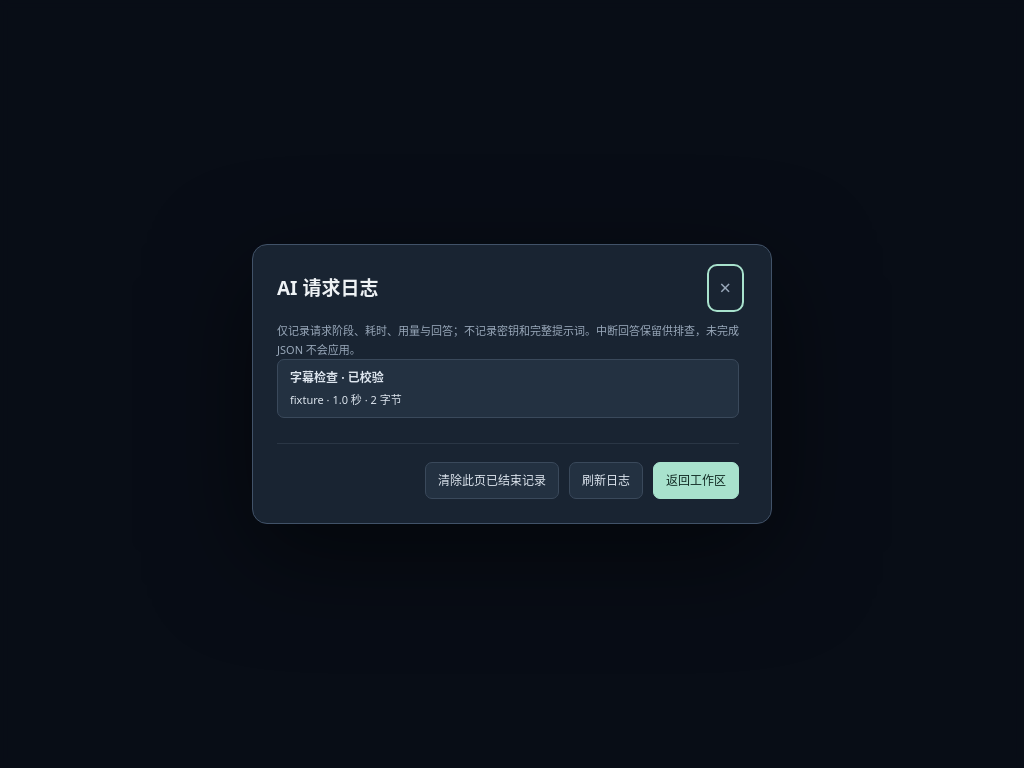
Scenario: diagnostics page navigation › does not offer replay for a validated record
This screenshot has width=1024, height=768.
What coordinates should you click on to do the following:
click the button "字幕检查 · 已校验 fixture · 1.0 秒 · 2 字节"
I would click on:
 (314, 378)
Its box is [277, 359, 739, 418].
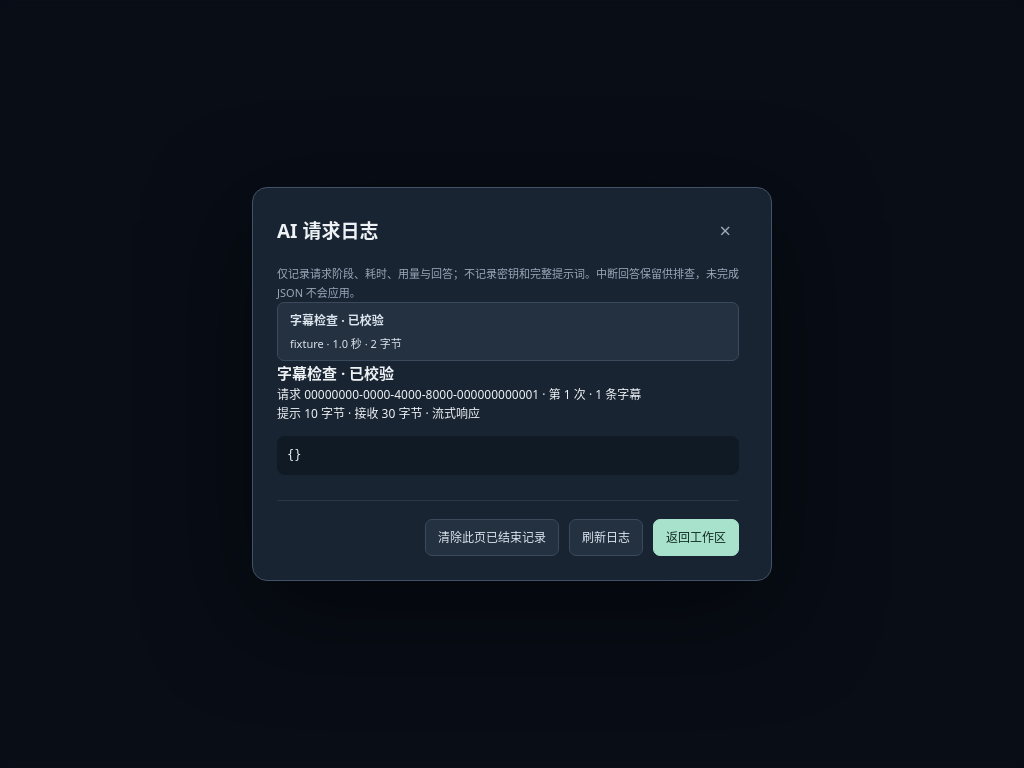
Expected: the heading "字幕检查 · 已校验" is shown, [277, 363, 394, 383]
